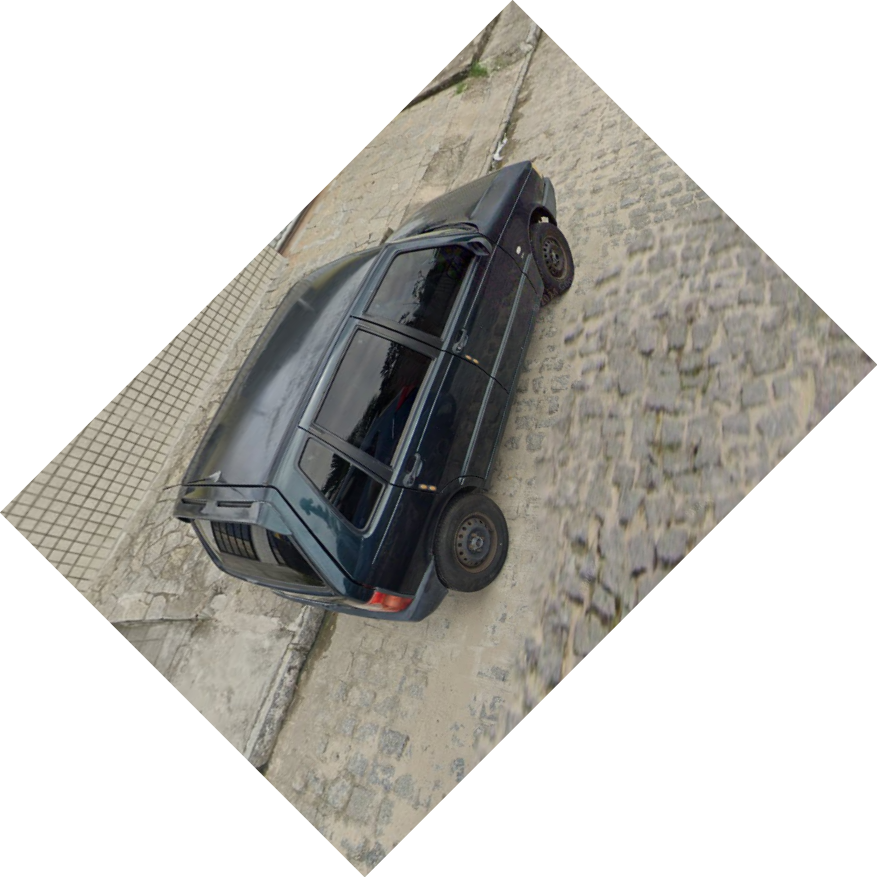car: (165, 158, 577, 624)
